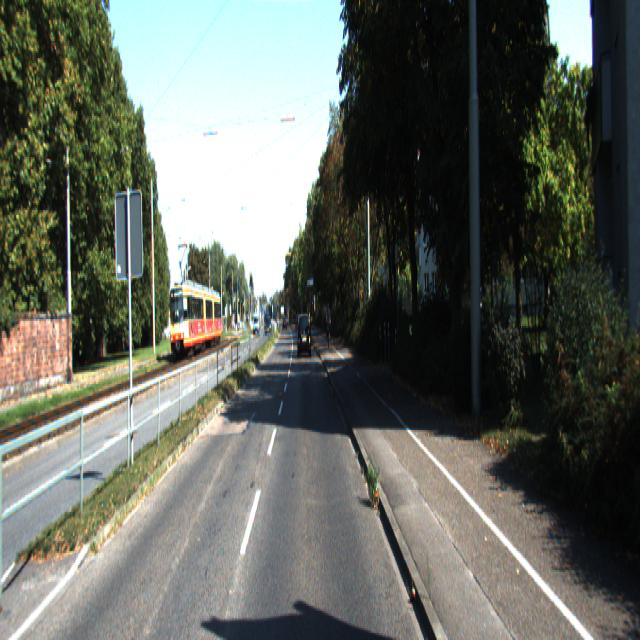Car: (298, 312, 312, 359)
DontCare: (253, 311, 269, 333), (324, 302, 331, 350), (281, 309, 288, 331)
Tram: (168, 274, 222, 353)
